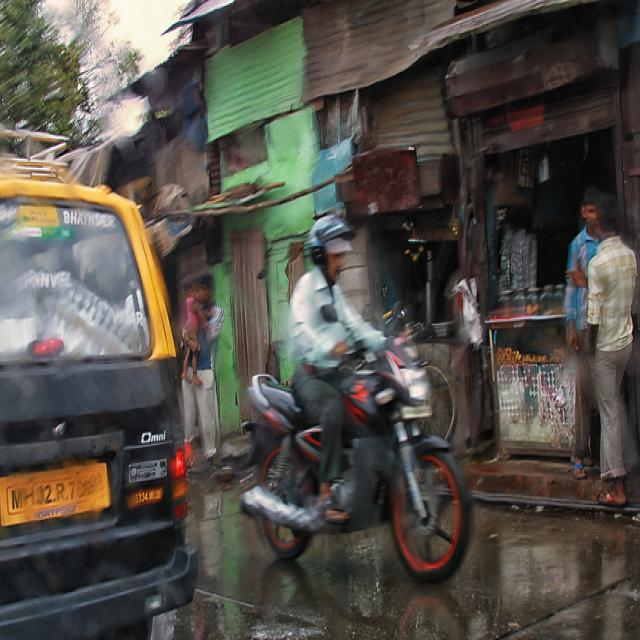motor: (238, 326, 473, 584)
